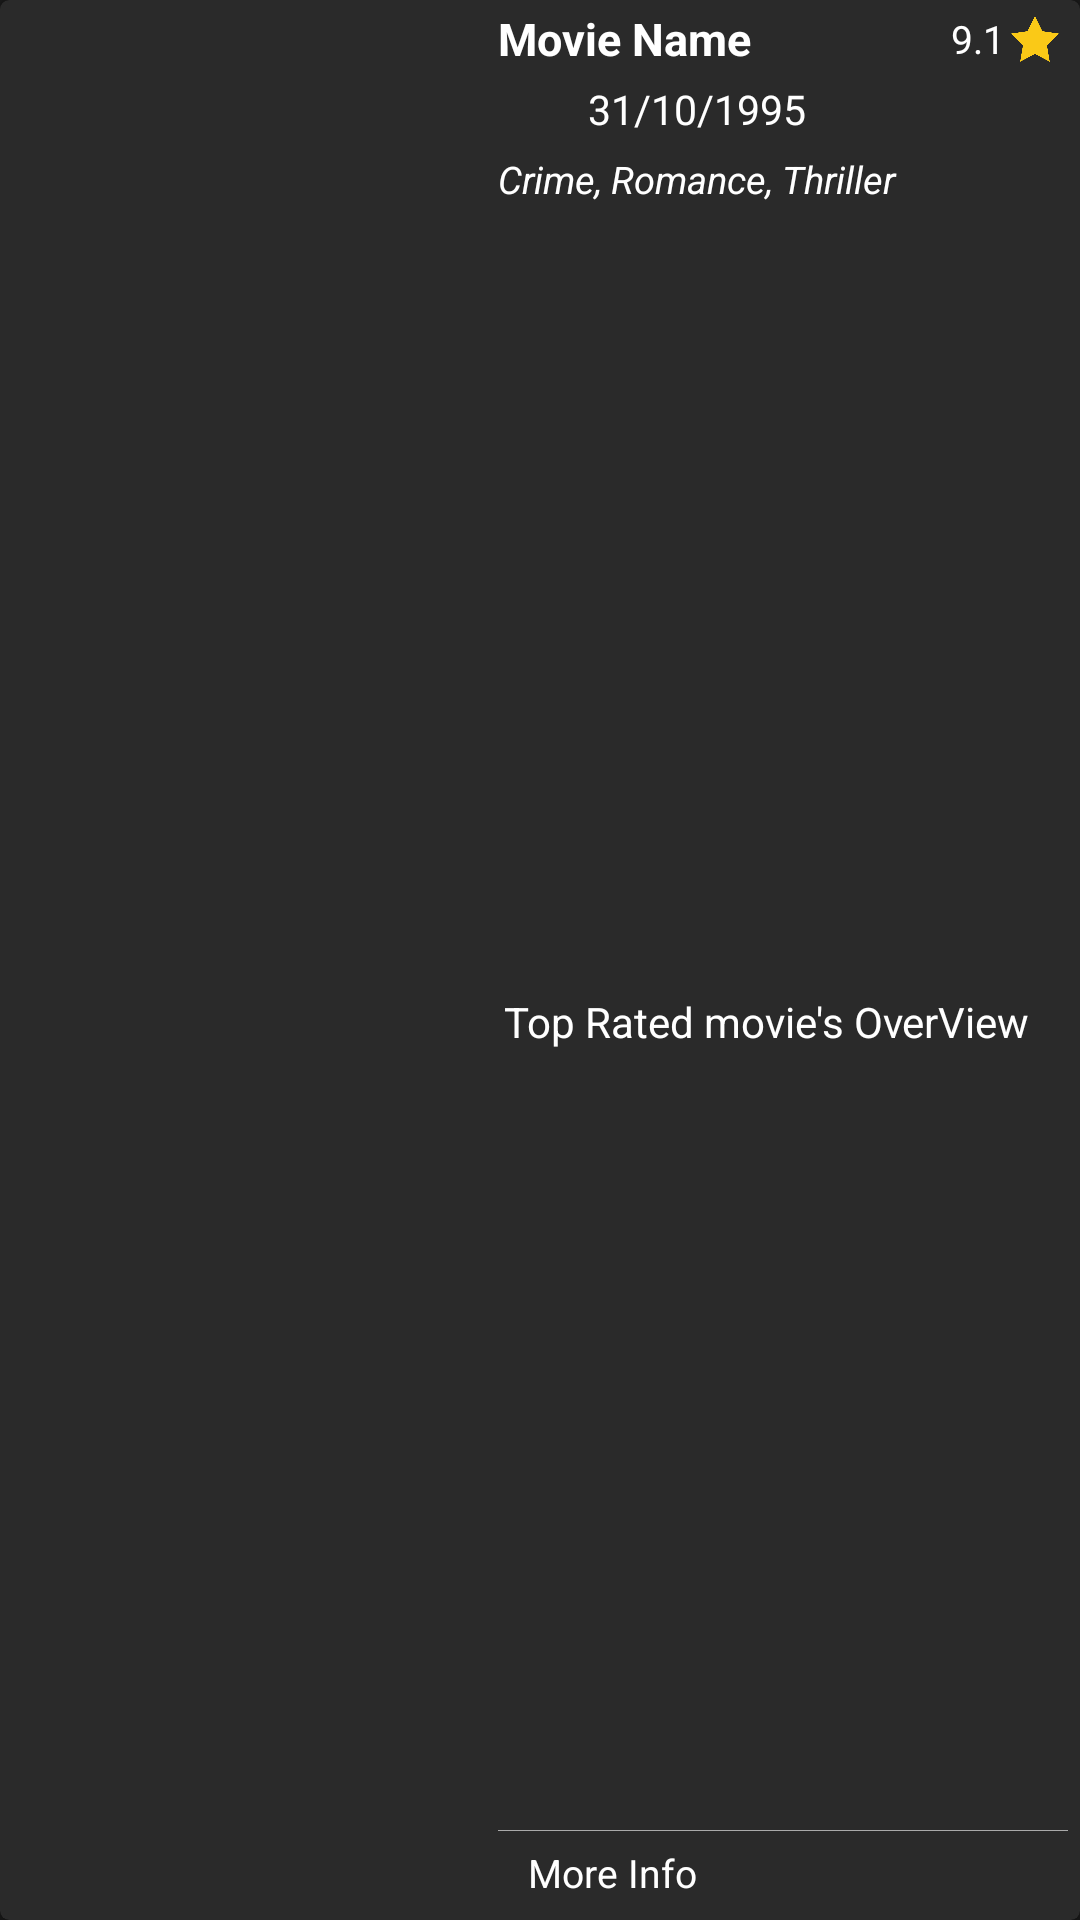

Where to tap for icons on this 1080w x 1920h app screen, as (x,y):
star: (1035,39)
